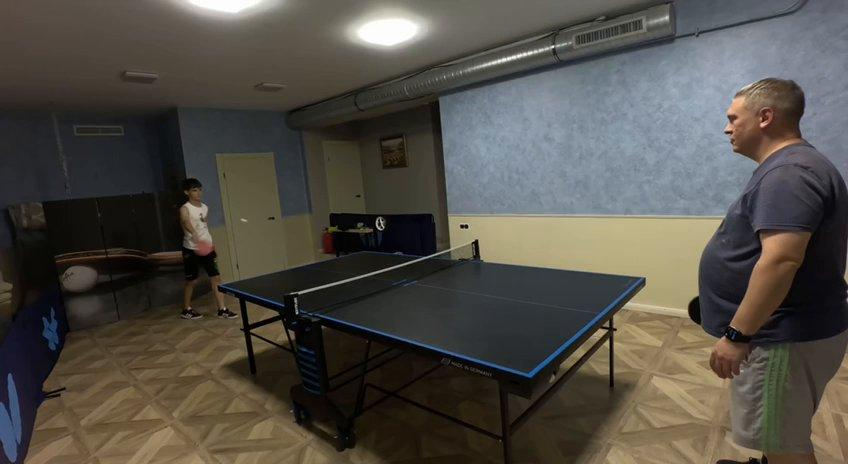Ball: (237, 217, 251, 225)
Net: (280, 241, 481, 325)
Player1: (179, 178, 224, 311)
Player2: (698, 78, 847, 463)
Table: (222, 250, 635, 375)
